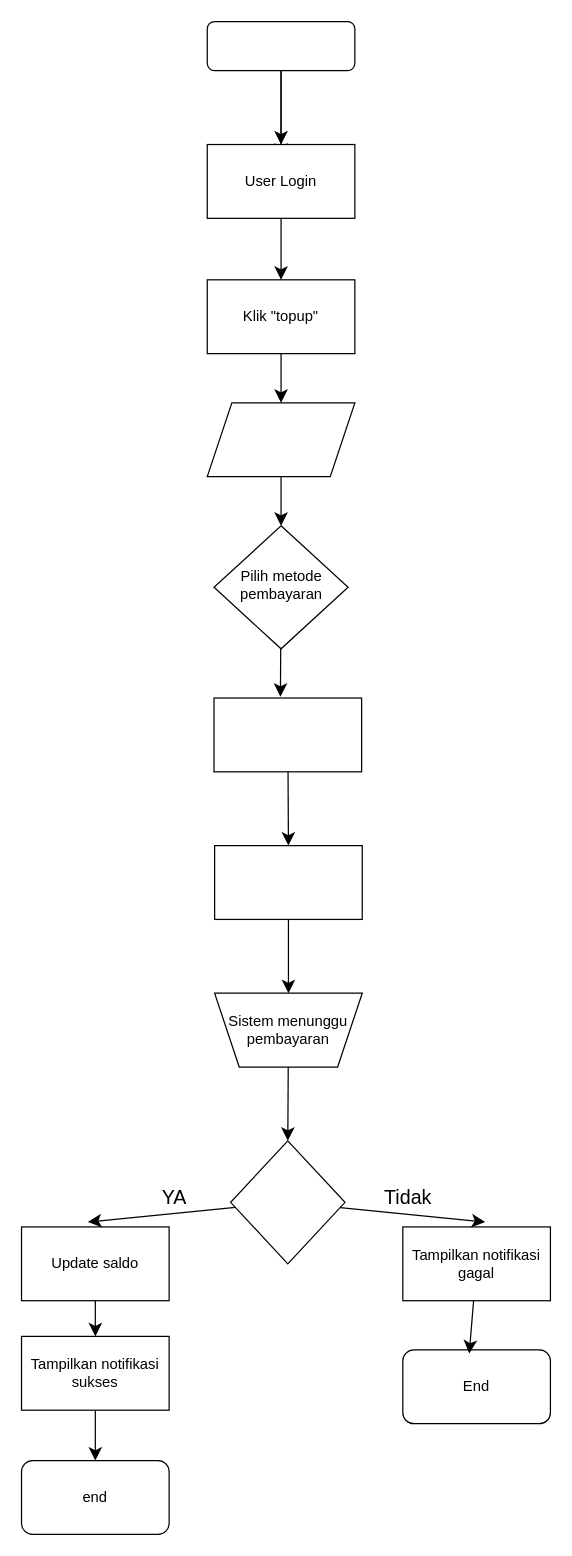
The diagram is 572 pixels wide and 1556 high, and some of its shapes have lost their labels. The shapes that lost their labels are listed below. From the top down, each one's box as (x1, y1, x2, y2) in pixels, then its label:
(206, 20, 355, 71): mulai
(206, 402, 355, 477): Input nominal
(213, 697, 362, 772): Sistem Generate VA & Instruksi Transfer
(213, 844, 362, 919): User Transfer via Mobile Banking/ATM
(229, 1140, 345, 1264): Pembayaran diterima?
